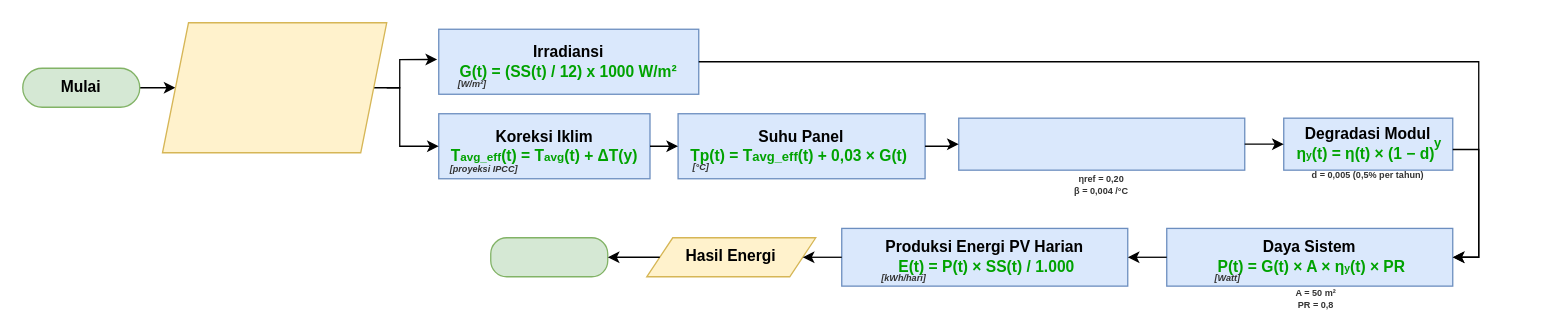
The diagram is 1567 pixels wide and 333 high, and some of its shapes have lost their labels. Here are the shapes that lost their labels. From the top down, the centre of each, then its label:
the point at 274,87: Input Data Harian SS(t) [jam] Tavg(t) [°C] y (tahun operasi)
the point at 1101,143: Efisiensi Modul η(t) = η ref × (1 − β (Tp(t) − 25))
the point at 548,256: Selesai
